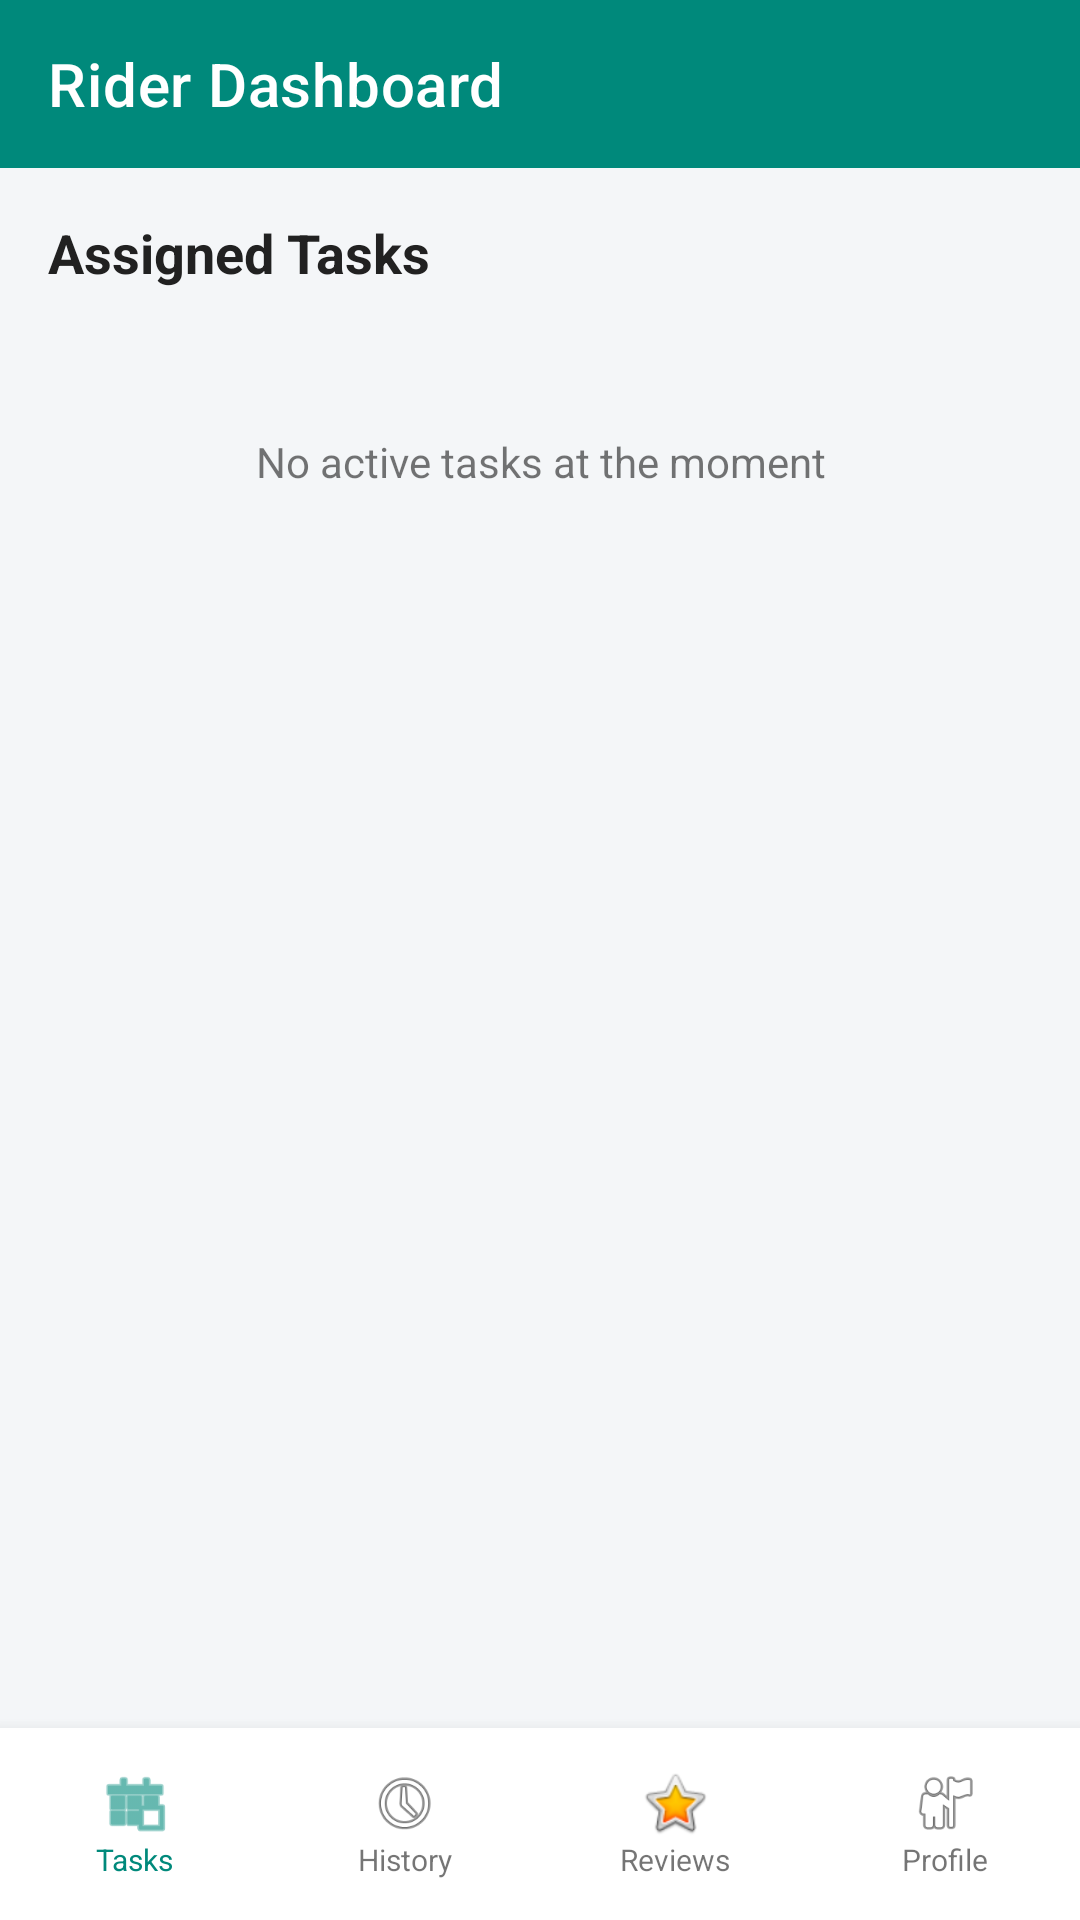

Screen size 1080px×1920px. Icon name, then its box in pixels as [x1, y1, x2, y2]:
myplaces: [919, 1776, 973, 1830]
star on: [646, 1774, 706, 1833]
today: [106, 1777, 165, 1832]
